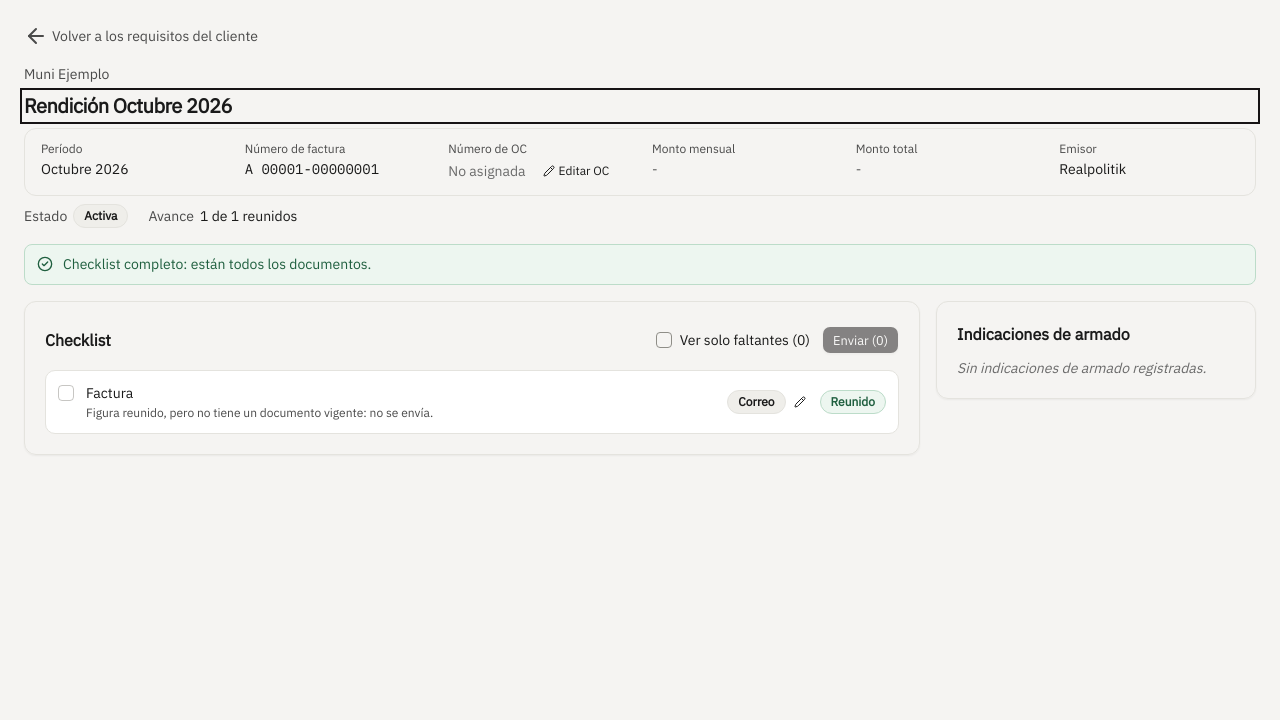
RendicionDetallePage: Orden de Compra (HU2.11) › al abrir el modal con los campos vacíos sugiere repetir la última OC, autocompleta los 3 inputs y guarda refrescando la cabecera y avisa que se guardó
This screenshot has width=1280, height=720.
Expected: the heading "Rendición Octubre 2026" is shown, [24, 92, 232, 119]
Click the button "Editar OC" at (576, 171), box [534, 159, 618, 183]
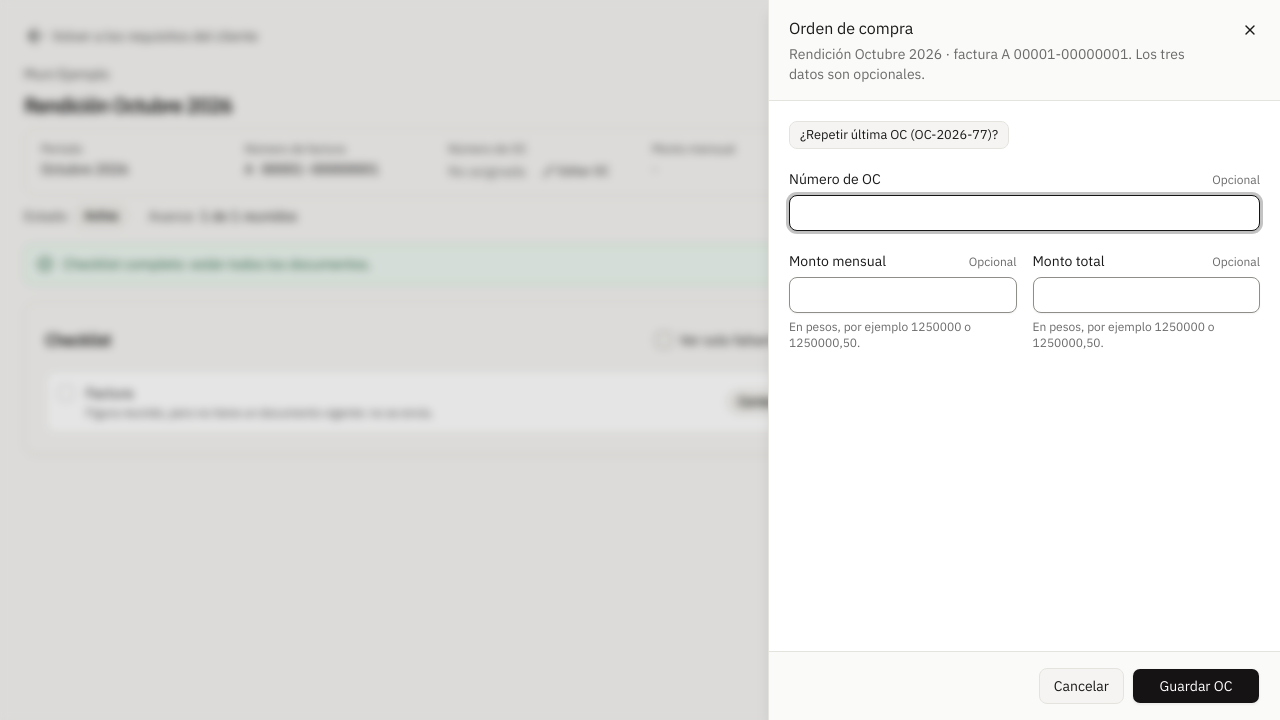
Click the button "¿Repetir última OC (OC-2026-77)?" at (899, 135), box [789, 121, 1009, 149]
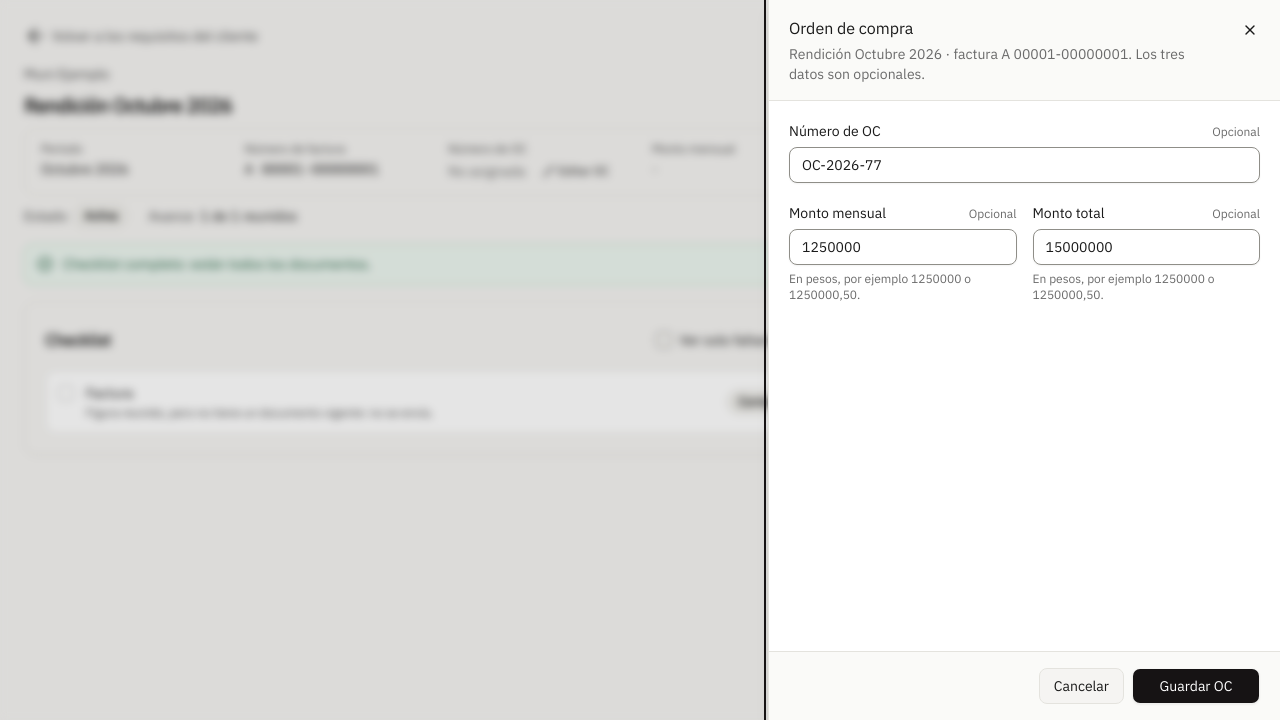
Now the field labelled "Número de OC" holds "OC-2026-77", box [789, 147, 1260, 183]
Now the field labelled "Monto mensual" holds "1250000", box [789, 229, 1016, 265]
Now the field labelled "Monto total" holds "15000000", box [1032, 229, 1260, 265]
Click the button "Guardar OC" at (1196, 686), box [1132, 668, 1260, 704]
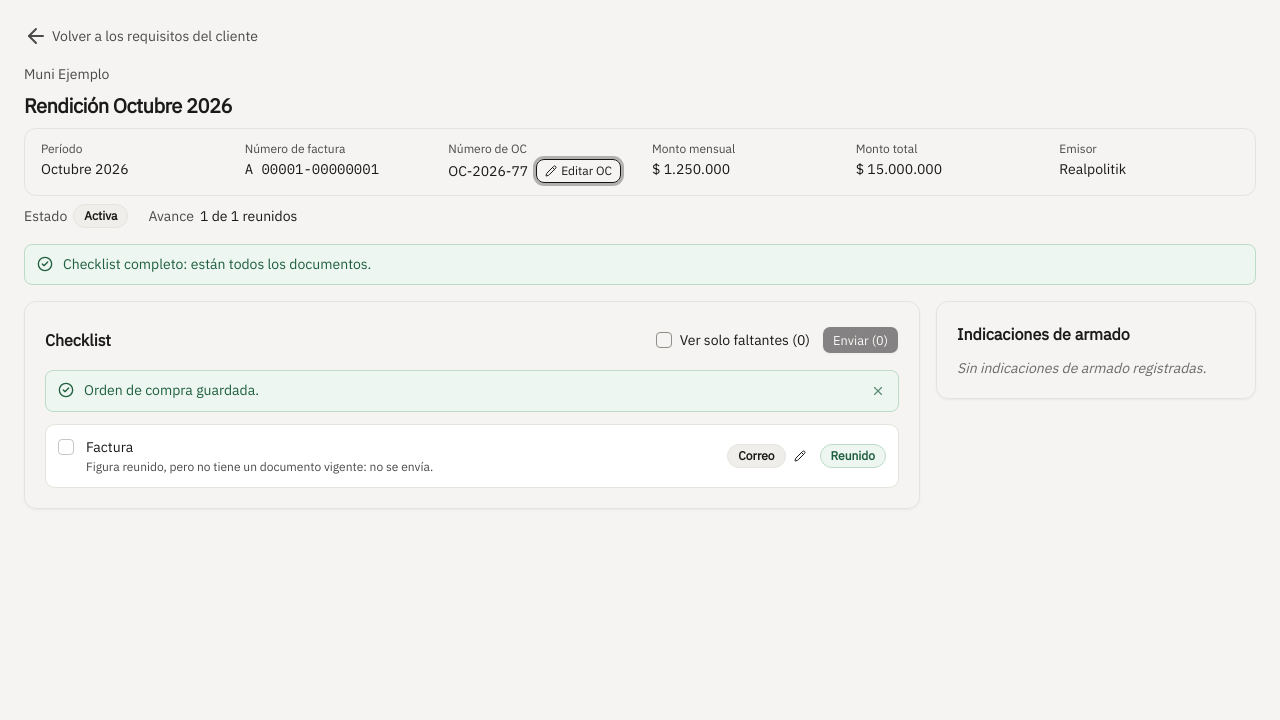
Now the text "Orden de compra guardada." is shown, box [84, 381, 259, 399]
Now the element showing "OC-2026-77 Editar OC" is shown, box [448, 159, 628, 183]
